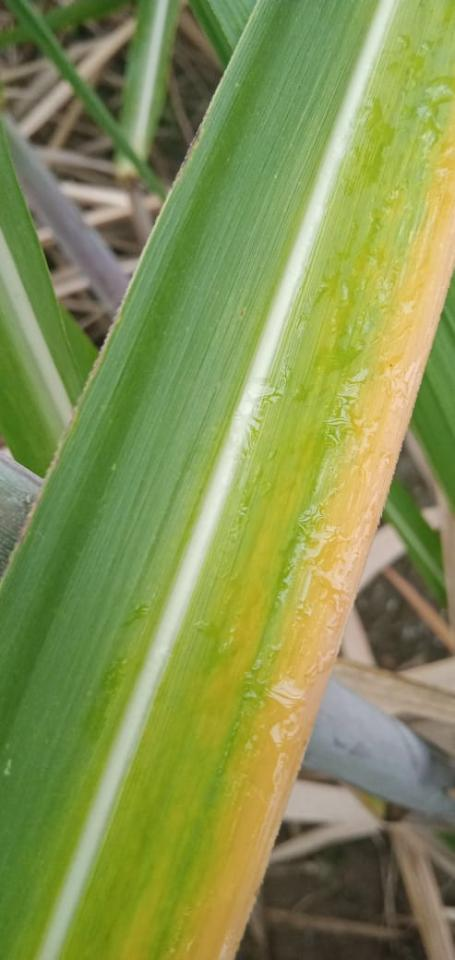Yellow: (90, 0, 454, 959)
